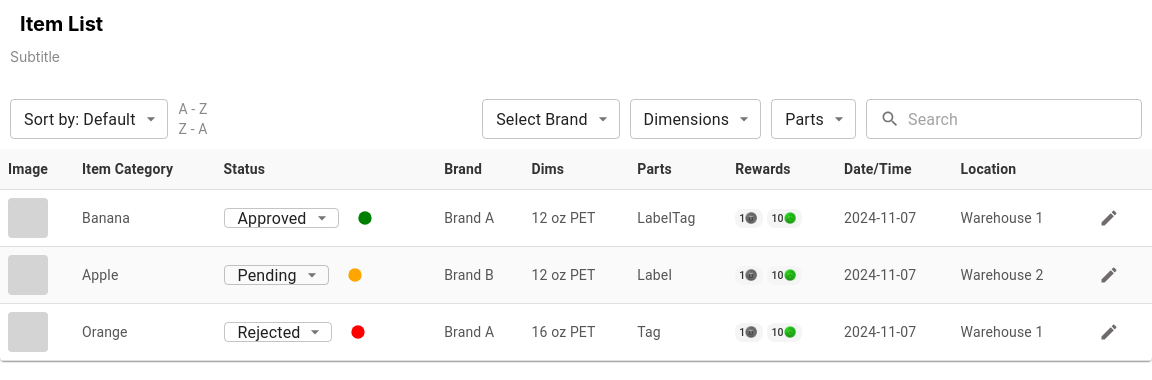
Test: renders ItemsTable and filters items by search text
The width and height of the screenshot is (1152, 380).
Expected: the text "Banana" is shown, x1=74 y1=190 x2=216 y2=246
Expected: the text "Apple" is shown, x1=74 y1=246 x2=216 y2=304
In the field with placeholder "Search": (1025,119) x1=908 y1=99 x2=1142 y2=139, type "Apple"
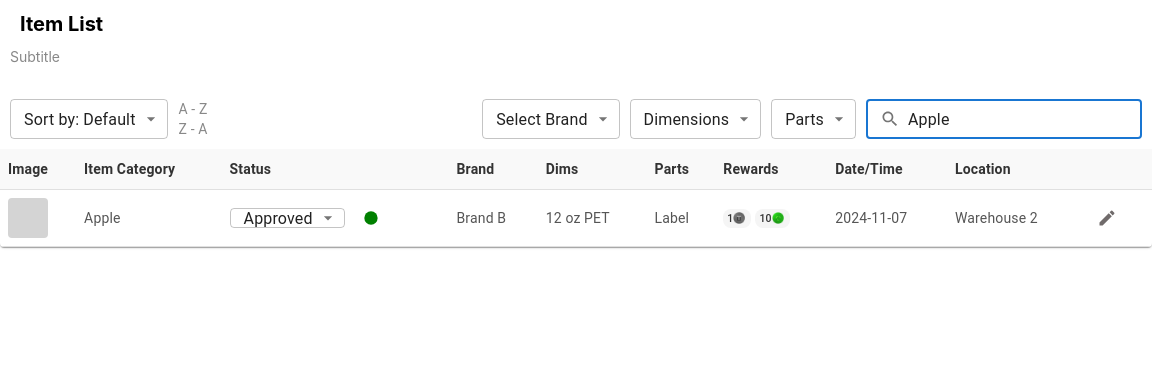
Now the text "Apple" is shown, box x1=76 y1=190 x2=222 y2=246
Now the text "Banana" is gone
Now the text "Orange" is gone
